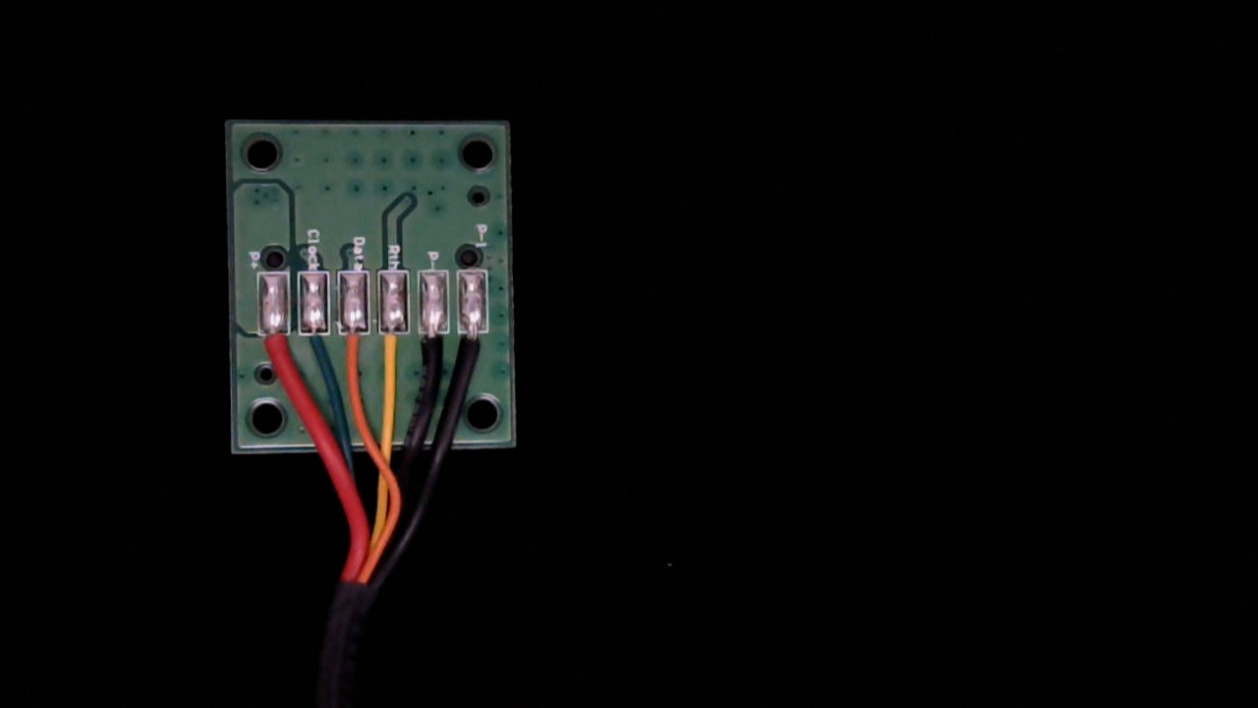Black: (417, 314, 451, 387)
Black1: (459, 312, 493, 379)
Green: (298, 311, 333, 371)
Orange: (339, 311, 371, 383)
Red: (260, 314, 294, 383)
Yellow: (380, 313, 415, 387)
